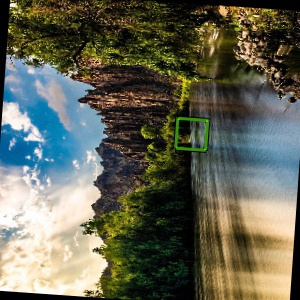square: (171, 114, 211, 154)
